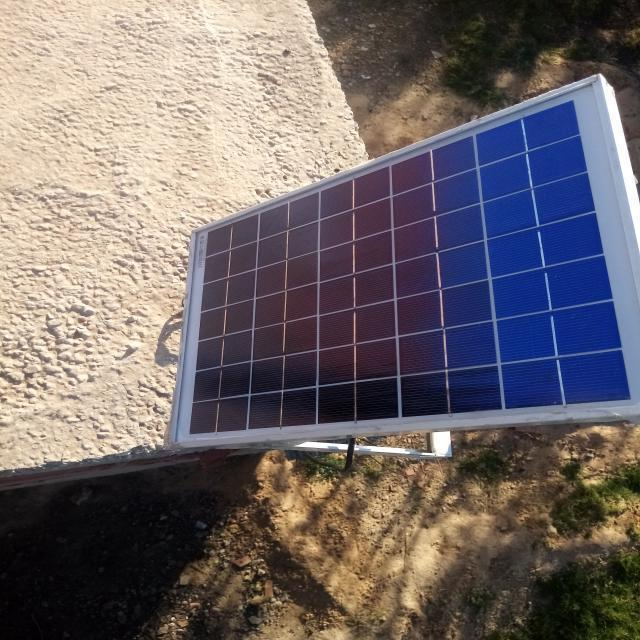Normal Solar Panel: (168, 80, 640, 442)
